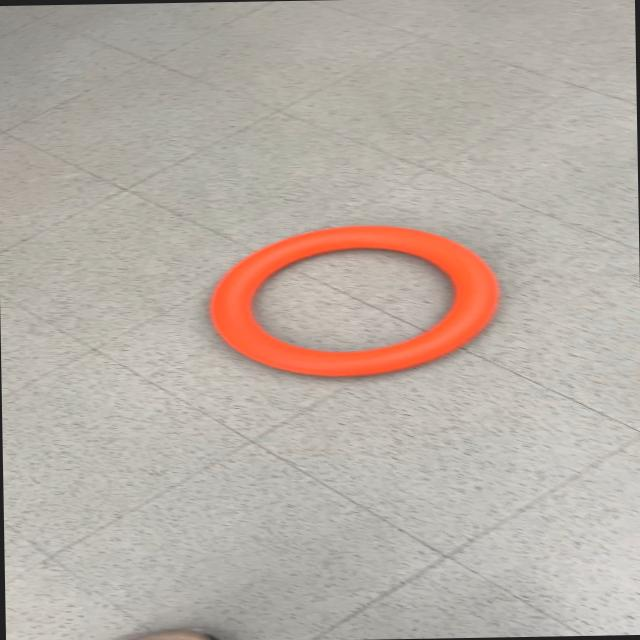note: (205, 220, 503, 380)
